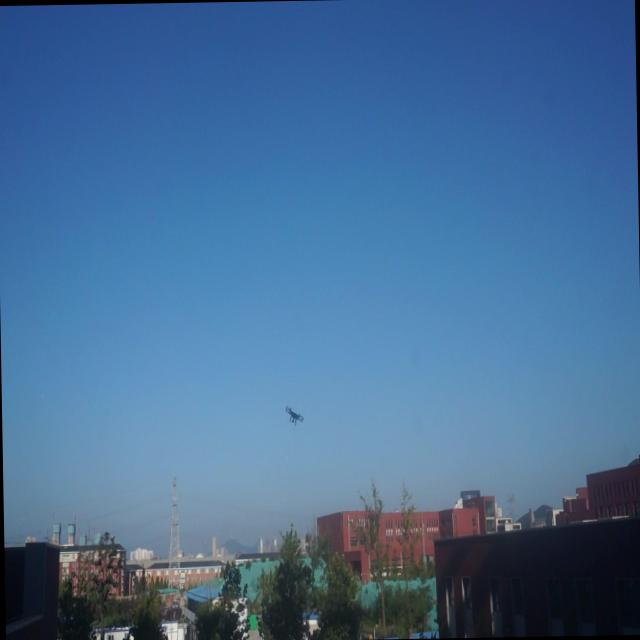drone: (284, 403, 304, 428)
